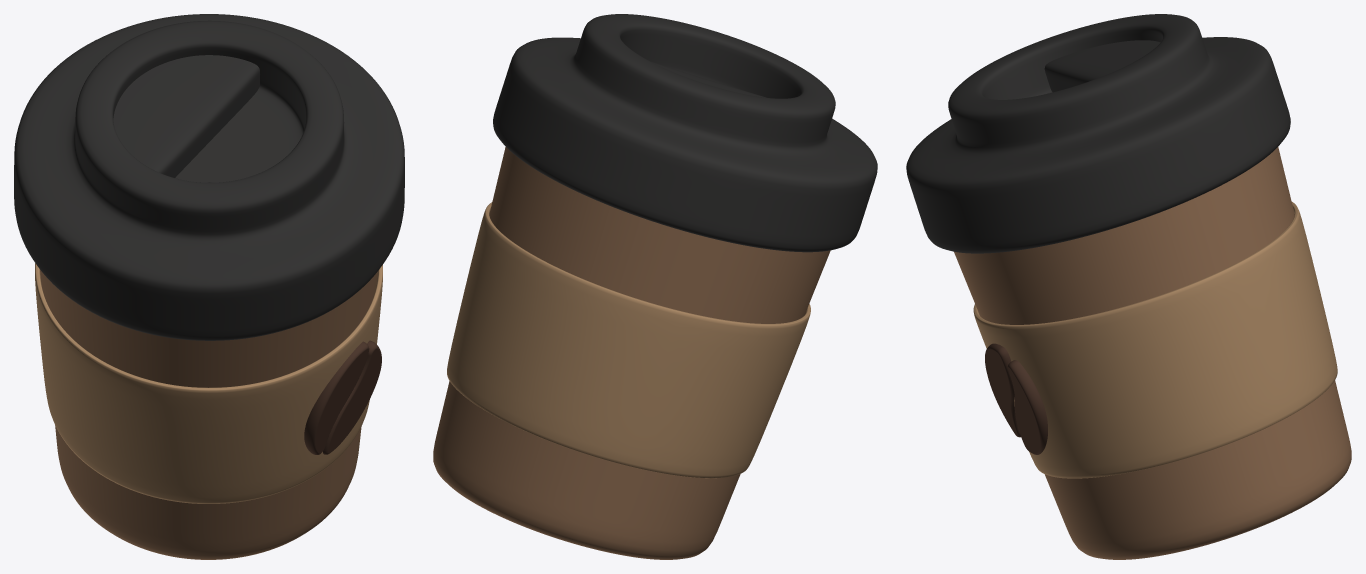
Rendered from coffee-cup-with-lid.glb.
3 views of the same model, side by side, from view 1: azimuth 30°, elevation 25°; view 2: azimuth 150°, elevation 25°; view 3: azimuth 270°, elevation 25° (orthographic).
Parts seen in each view (by area): view 1: Cylinder.003, Cylinder.005, Cylinder.004, Cube.015, Curve.008; view 2: Cylinder.003, Cylinder.005, Cylinder.004; view 3: Cylinder.003, Cylinder.004, Cylinder.005, Curve.008, Cube.015.
Boxes of the visible parts, x1,y1,x2,y2 form: Cylinder.003: [14, 14, 404, 340]; Cylinder.005: [35, 263, 382, 503]; Cylinder.004: [40, 270, 377, 559]; Cube.015: [113, 55, 259, 177]; Curve.008: [304, 340, 381, 454]; Cylinder.003: [493, 14, 877, 252]; Cylinder.005: [447, 202, 810, 478]; Cylinder.004: [433, 147, 830, 559]; Cylinder.003: [906, 14, 1290, 253]; Cylinder.004: [954, 147, 1351, 559]; Cylinder.005: [973, 202, 1337, 478]; Curve.008: [985, 343, 1047, 454]; Cube.015: [1044, 40, 1160, 92].
Bounding box in the file's own units: 5 × 6.75 × 5.54.
